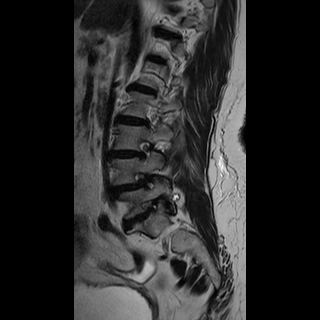RFS1: (133, 133, 159, 165)
RFS3: (130, 167, 158, 196)
